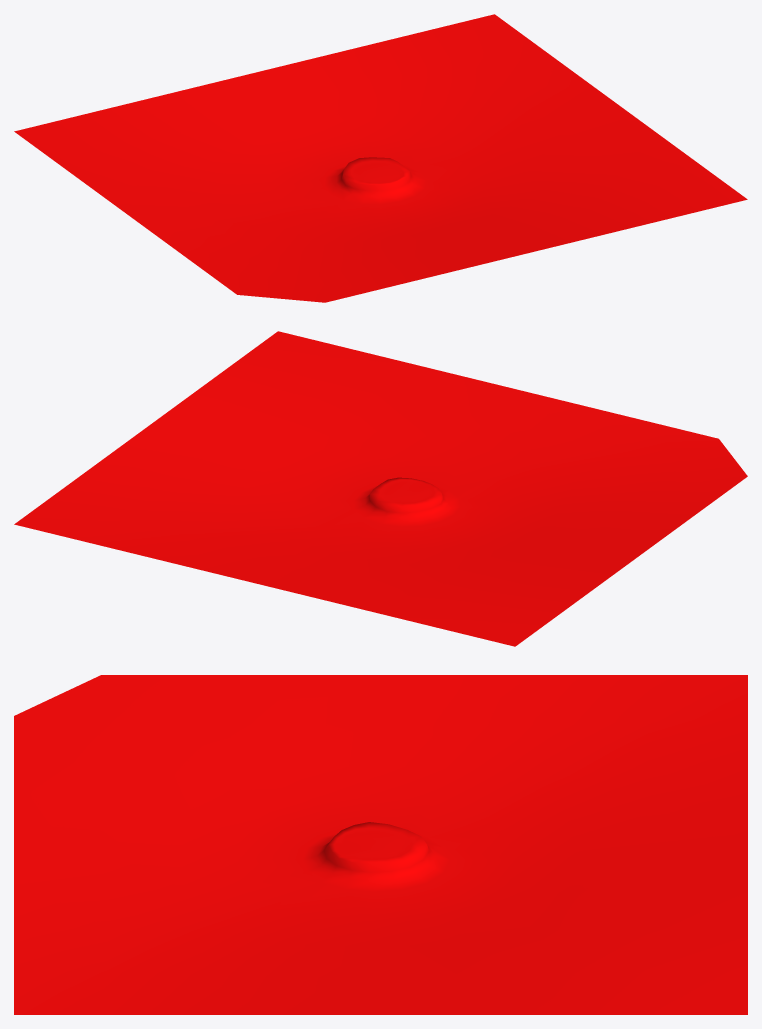
3 renders of one model, top to bottom at view 1: azimuth 30°, elevation 25°; view 2: azimuth 150°, elevation 25°; view 3: azimuth 270°, elevation 25°, orthographic. The views are drawn at different scales.
Parts seen in each view (by area): view 1: OceanFloorMesh; view 2: OceanFloorMesh; view 3: OceanFloorMesh.
Part boxes in pixels (x1,y1,x2,y2): OceanFloorMesh: (14, 14, 747, 302); OceanFloorMesh: (14, 331, 747, 646); OceanFloorMesh: (14, 675, 747, 1014).
Size of the model in its own units: 3165 by 90.04 by 2888.
